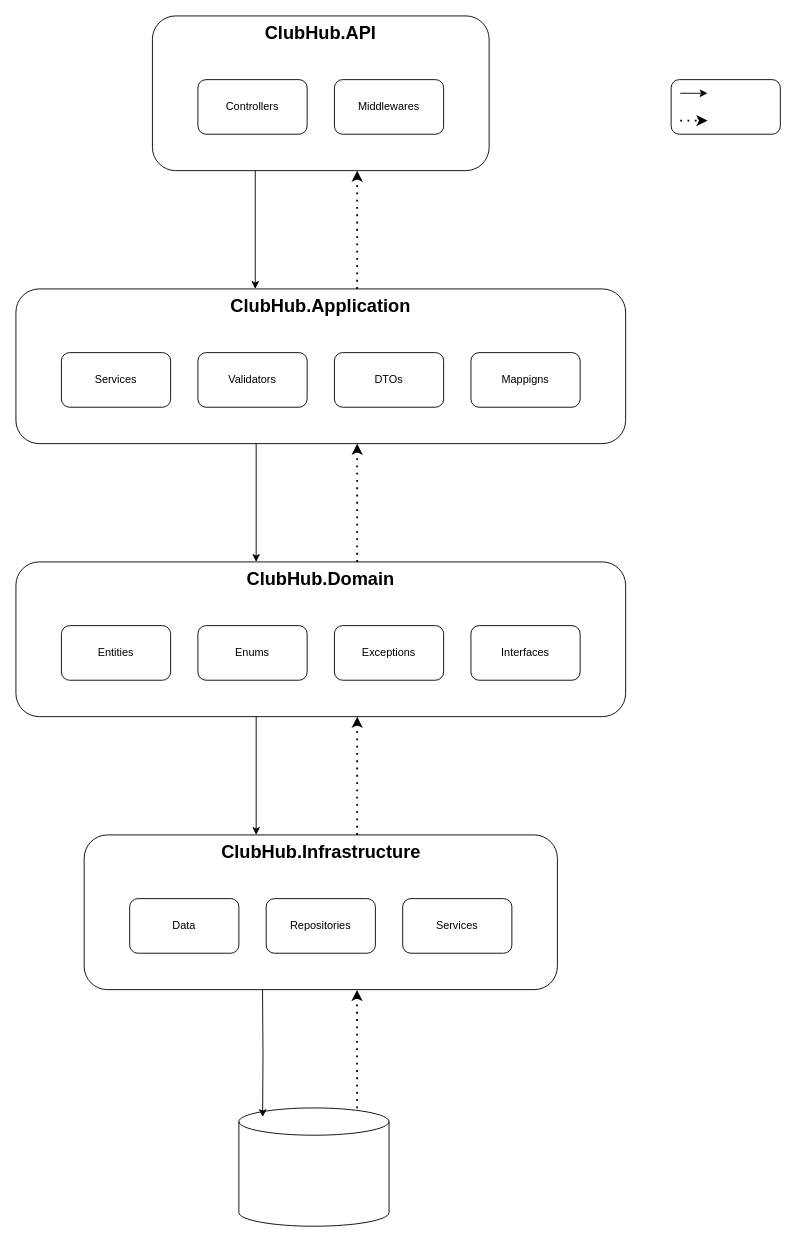
This 796x1242 diagram has some shape labels left out. The centre of each missing label's shape, as x and y in pixels:
Database: (313,1166)
Request Response: (725,106)
